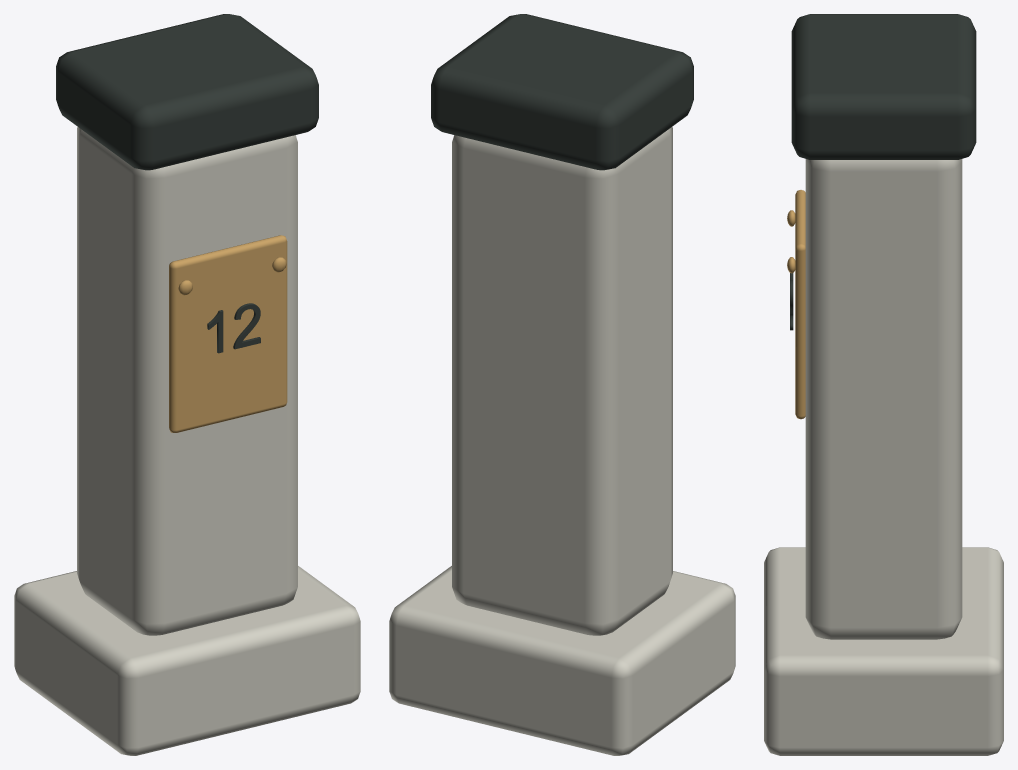
File: Prop_Milestone_01_Detailed.fbx
The picture shows the model from 3 angles, left to right: view 1: azimuth 30°, elevation 25°; view 2: azimuth 150°, elevation 25°; view 3: azimuth 270°, elevation 25°; orthographic projection. The views are drawn at different scales.
Visible parts, largest first — view 1: Prop_Milestone_01_Post, Prop_Milestone_01_Base, Prop_Milestone_01_Cap, Prop_Milestone_01_Plate, Prop_Milestone_01_Distance; view 2: Prop_Milestone_01_Post, Prop_Milestone_01_Base, Prop_Milestone_01_Cap; view 3: Prop_Milestone_01_Post, Prop_Milestone_01_Base, Prop_Milestone_01_Cap, Prop_Milestone_01_Plate.
Part boxes in pixels (bbox=[...]): Prop_Milestone_01_Post: bbox=[77, 127, 297, 635]; Prop_Milestone_01_Base: bbox=[14, 566, 360, 755]; Prop_Milestone_01_Cap: bbox=[56, 14, 318, 170]; Prop_Milestone_01_Plate: bbox=[169, 235, 287, 432]; Prop_Milestone_01_Distance: bbox=[207, 303, 260, 353]; Prop_Milestone_01_Post: bbox=[452, 127, 672, 635]; Prop_Milestone_01_Base: bbox=[389, 566, 735, 755]; Prop_Milestone_01_Cap: bbox=[431, 14, 693, 170]; Prop_Milestone_01_Post: bbox=[805, 159, 962, 639]; Prop_Milestone_01_Base: bbox=[764, 547, 1003, 755]; Prop_Milestone_01_Cap: bbox=[791, 14, 976, 159]; Prop_Milestone_01_Plate: bbox=[795, 190, 805, 419].
Bounding box in the file's own units: 62 × 155 × 52.
